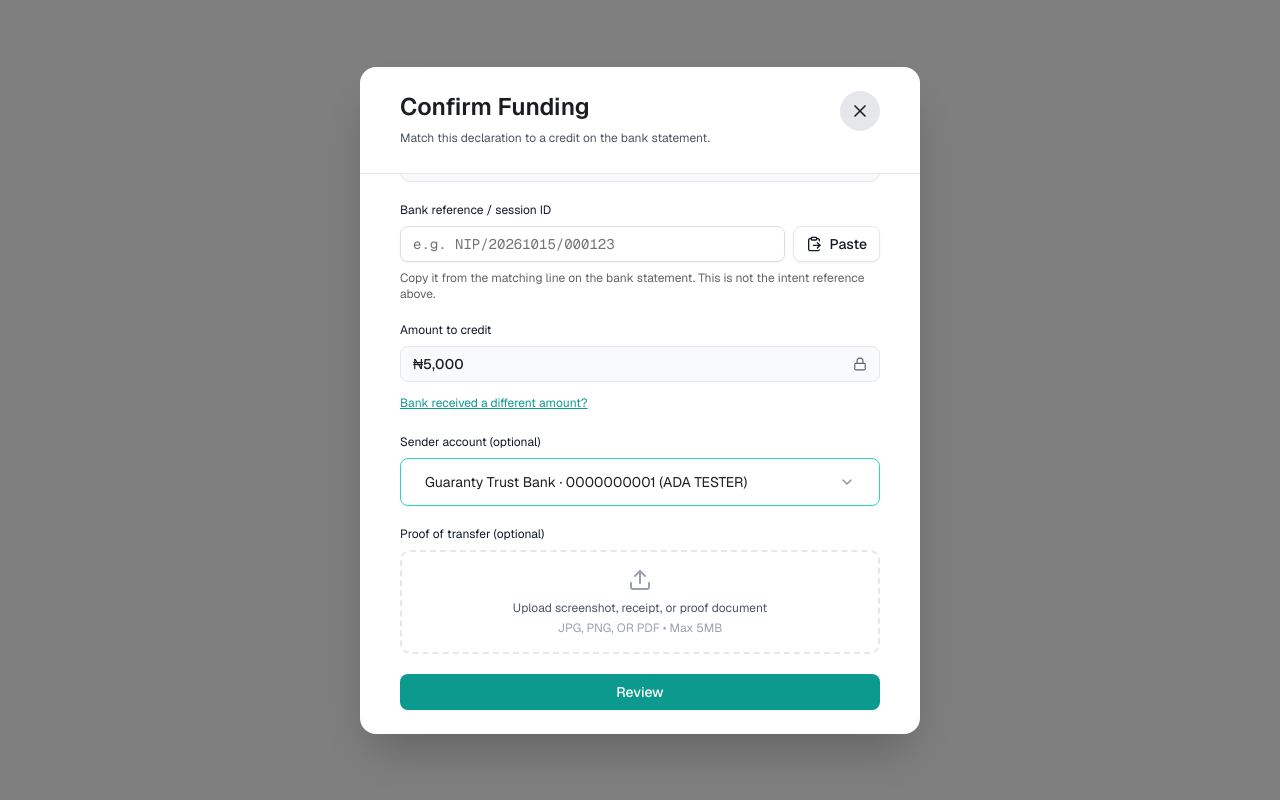
Test: CompleteIntentModal › shows the declared amount locked by default and needs a bank reference
The image size is (1280, 800).
(page scrolled)
Check: the element with test id "locked-amount" reads "₦5,000", box top-left (413, 354), bottom-right (464, 372)
Step 1. Click the button "Review" → (640, 692), box top-left (400, 674), bottom-right (880, 710)
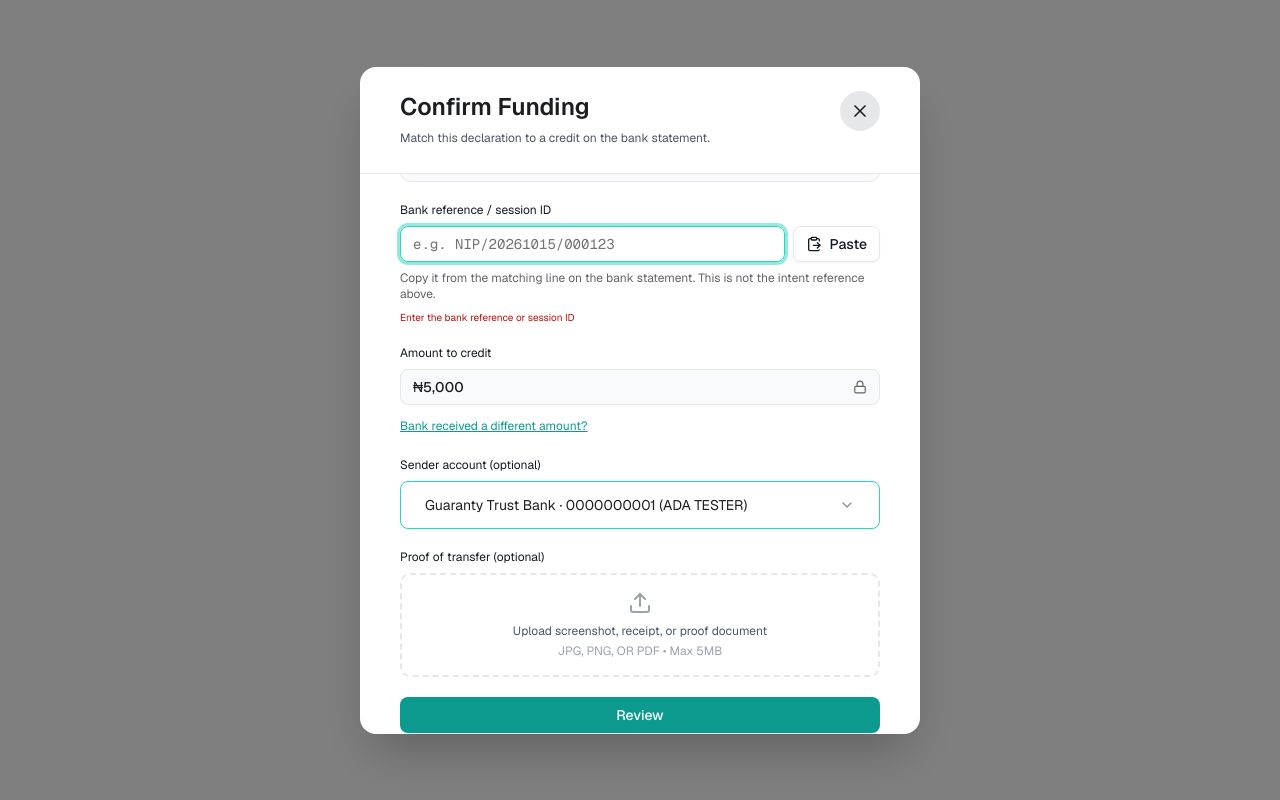
Check: the text "Enter the bank reference or session ID" is shown, box top-left (400, 310), bottom-right (574, 324)
